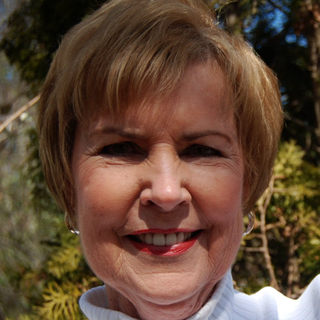eye: (93, 139, 145, 163), (178, 140, 229, 164)
